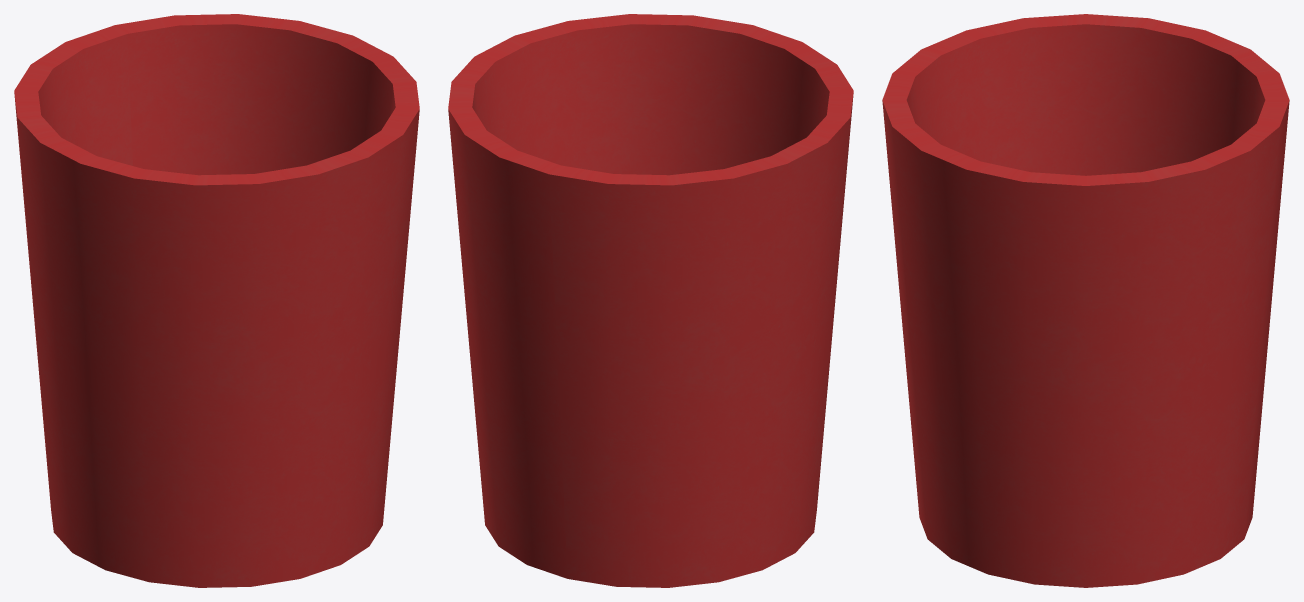
The model's file is pencilcase_M.fbx.
3 renders of one model, left to right at view 1: azimuth 30°, elevation 25°; view 2: azimuth 150°, elevation 25°; view 3: azimuth 270°, elevation 25°, orthographic.
Visible parts, largest first — view 1: pCylinder13; view 2: pCylinder13; view 3: pCylinder13.
Part boxes in pixels (<box>): pCylinder13: <box>14,14,419,587</box>; pCylinder13: <box>448,14,853,587</box>; pCylinder13: <box>882,14,1289,587</box>.
Size of the model in its own units: 0.0324 by 0.0366 by 0.0324.
